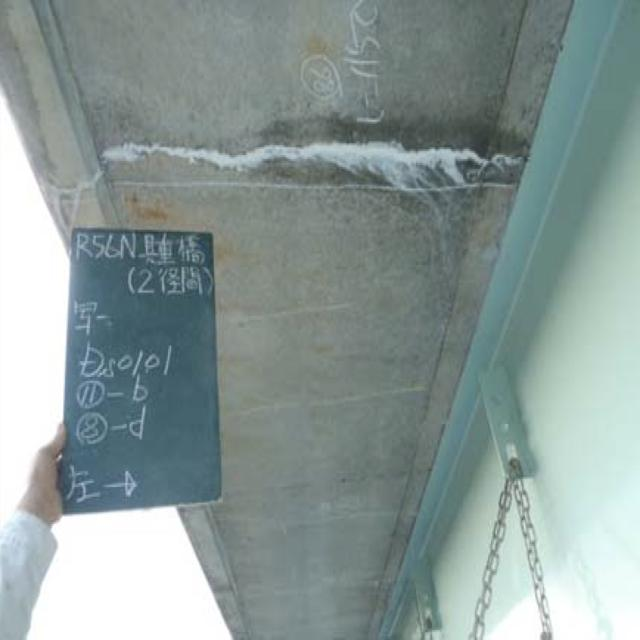freelime: (103, 117, 506, 194)
